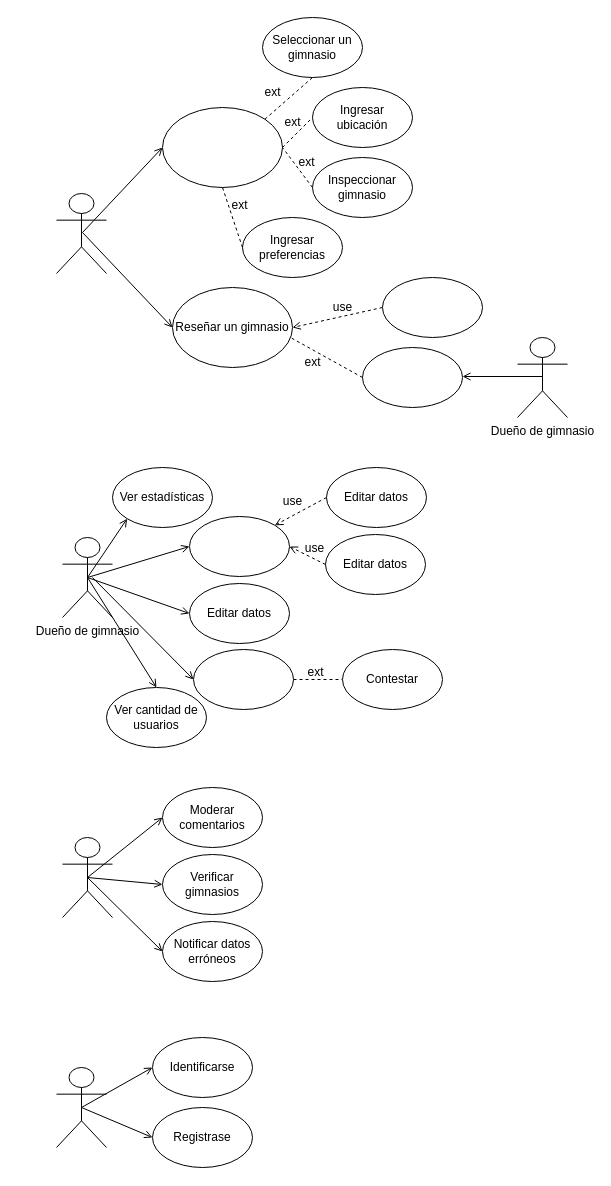
Some shapes in this 611 by 1186 pixel diagram are drawn without their labels. The box of each missing label's shape, as (x1, y1, x2, y2) in pixels:
Administrador: (62, 836, 112, 918)
Encontrar un gimnasio: (162, 106, 282, 188)
Ingresar comentario: (362, 346, 462, 408)
Ingresar nuevo gimnasio: (188, 516, 290, 576)
Ingresar valoración: (382, 276, 482, 338)
Leer reseñas: (192, 648, 294, 710)
Usuario: (56, 192, 106, 274)
Usuarios no identificado: (56, 1066, 106, 1148)
